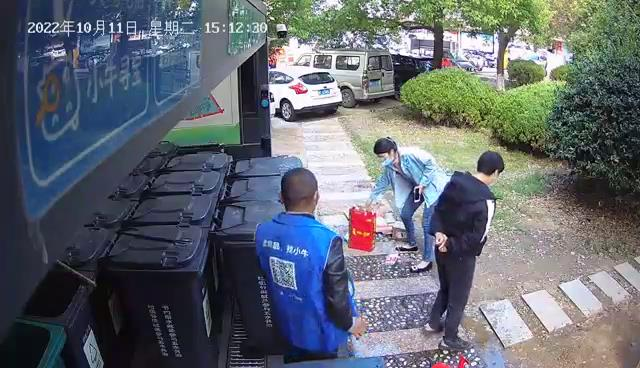person: (423, 150, 505, 349)
worker: (254, 166, 369, 365), (367, 136, 449, 274)
zhizhipin: (347, 200, 378, 252)
